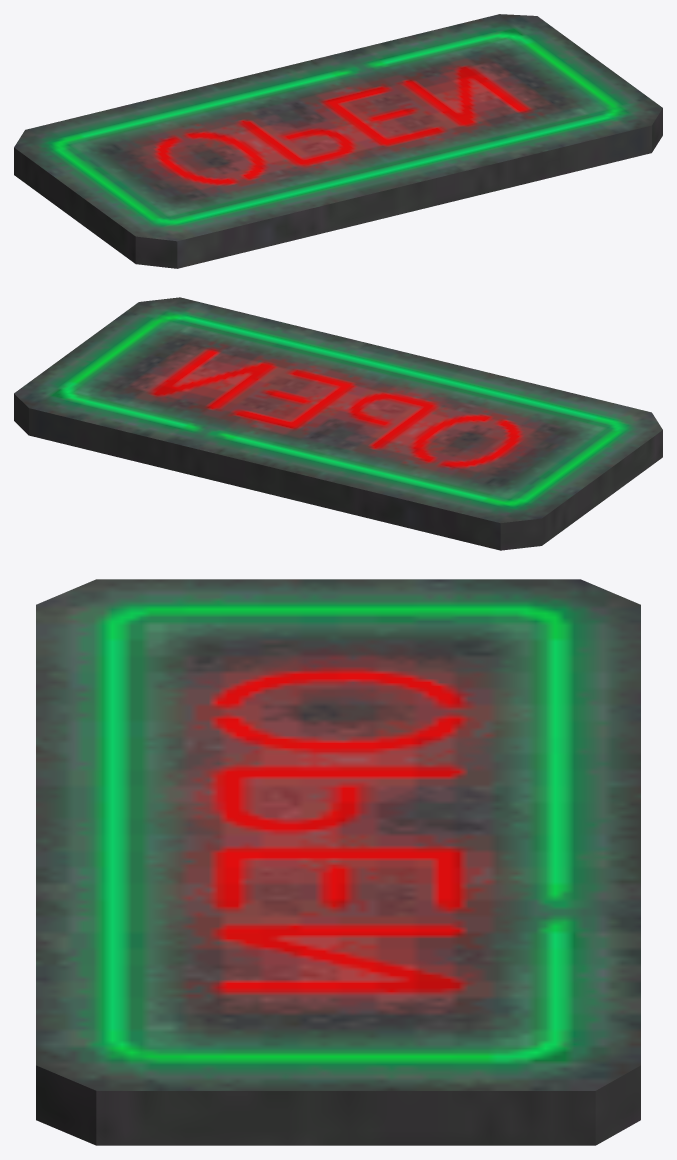
The model's file is neonopen1.fbx.
The picture shows the model from 3 angles, top to bottom: view 1: azimuth 30°, elevation 25°; view 2: azimuth 150°, elevation 25°; view 3: azimuth 270°, elevation 25°; orthographic projection. The views are drawn at different scales.
Visible parts, largest first — view 1: mesh_0; view 2: mesh_0; view 3: mesh_0.
Part boxes in pixels (<box>): mesh_0: <box>14,14,662,268</box>; mesh_0: <box>14,297,662,550</box>; mesh_0: <box>36,579,640,1145</box>.
Size of the model in its own units: 80 by 4 by 40.
1 material, 1 textured.
